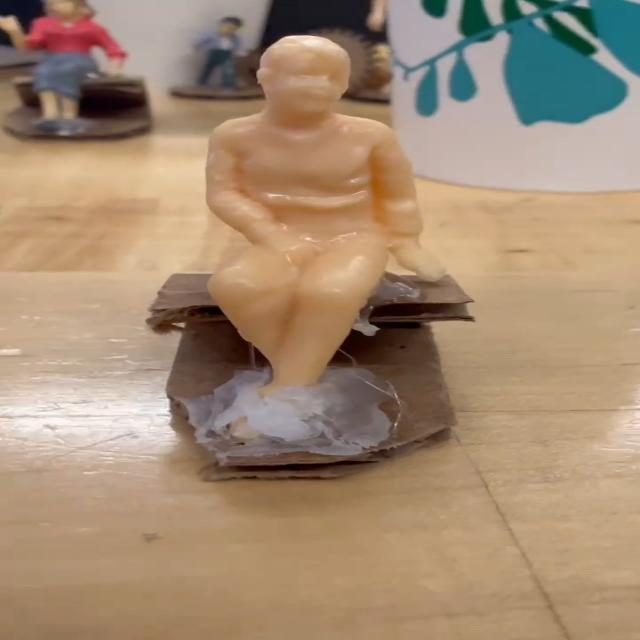Unauthorized: (175, 29, 422, 444)
